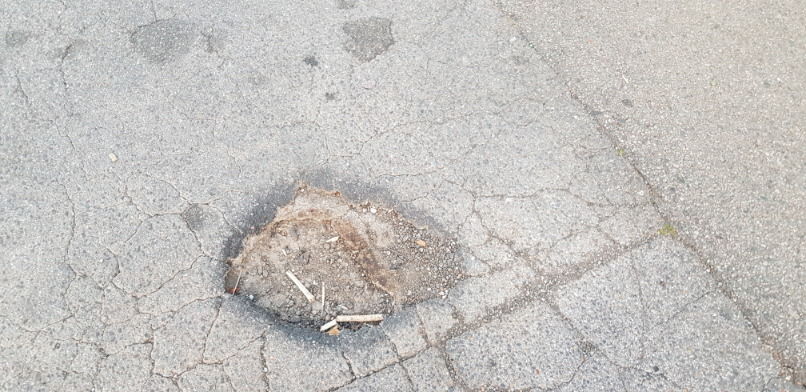pothole: (217, 171, 476, 347)
